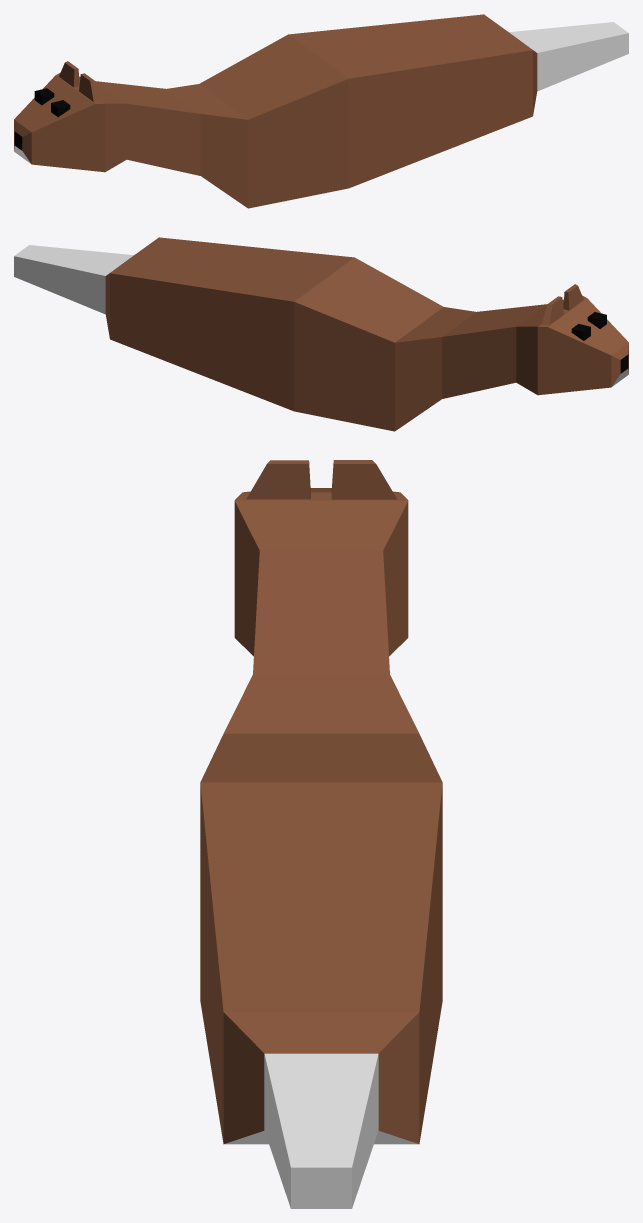
File: Weasel.fbx
3 views of the same model, one above another, from view 1: azimuth 30°, elevation 25°; view 2: azimuth 150°, elevation 25°; view 3: azimuth 270°, elevation 25° (orthographic). The views are drawn at different scales.
Parts seen in each view (by area): view 1: Cube; view 2: Cube; view 3: Cube.
Boxes of the visible parts, x1=… form: Cube: x1=14, y1=14, x2=628, y2=208; Cube: x1=14, y1=237, x2=628, y2=431; Cube: x1=200, y1=460, x2=442, y2=1208.
Size of the model in its own units: 1421 by 348 by 247.
